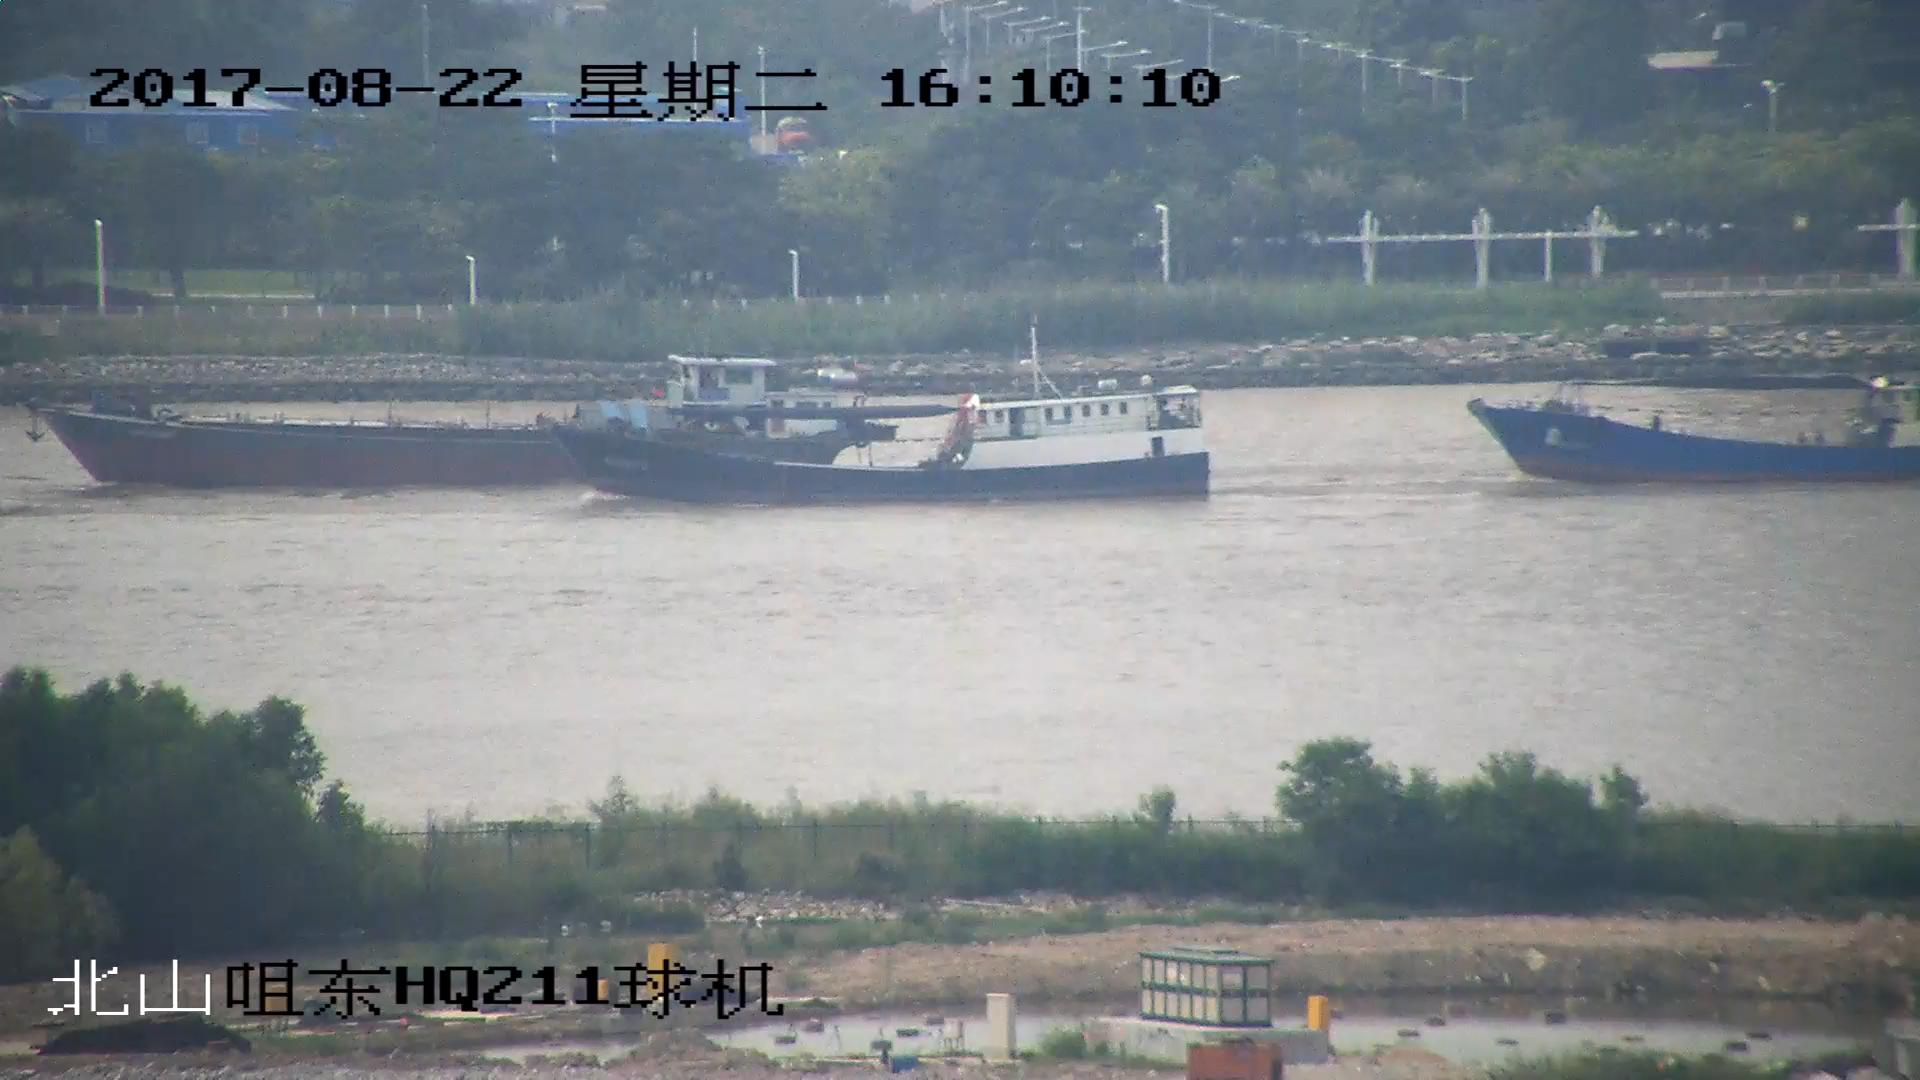bulk cargo carrier: (35, 354, 904, 484)
fishing boat: (538, 331, 1212, 503), (1472, 367, 1920, 481)
